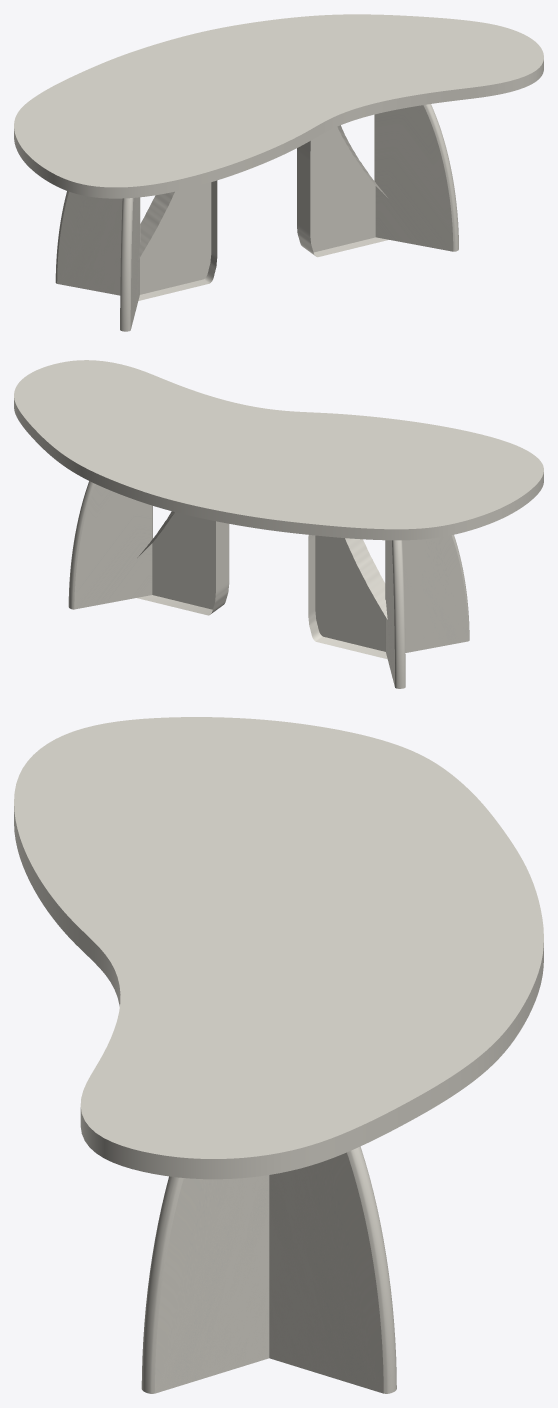
The model's file is pale_leaf1_standard_plane.glb.
3 renders of one model, top to bottom at view 1: azimuth 30°, elevation 25°; view 2: azimuth 150°, elevation 25°; view 3: azimuth 270°, elevation 25°, orthographic. The views are drawn at different scales.
Parts seen in each view (by area): view 1: standard_leaf1, plane_singleright2, plane_single2, plane_single1, plane_singleleft1, plane_singleright1; view 2: standard_leaf1, plane_singleleft2, plane_single1, plane_single2, plane_singleright1, plane_singleleft1; view 3: standard_leaf1, plane_singleleft2, plane_singleright2.
Part boxes in pixels (x1,y1,x2,y2): standard_leaf1: [14, 14, 543, 198]; plane_singleright2: [374, 104, 458, 251]; plane_single2: [297, 125, 388, 257]; plane_single1: [138, 180, 217, 300]; plane_singleleft1: [55, 191, 140, 295]; plane_singleright1: [120, 197, 139, 331]; standard_leaf1: [14, 360, 543, 540]; plane_singleleft2: [68, 481, 152, 609]; plane_single1: [308, 535, 387, 659]; plane_single2: [137, 511, 229, 615]; plane_singleright1: [385, 535, 469, 652]; plane_singleleft1: [386, 540, 405, 688]; standard_leaf1: [14, 717, 543, 1179]; plane_singleleft2: [269, 1146, 396, 1393]; plane_singleright2: [141, 1175, 269, 1393].
Bounding box in the file's own units: 7.5 × 2.5 × 3.8.
1 material, 1 textured.
